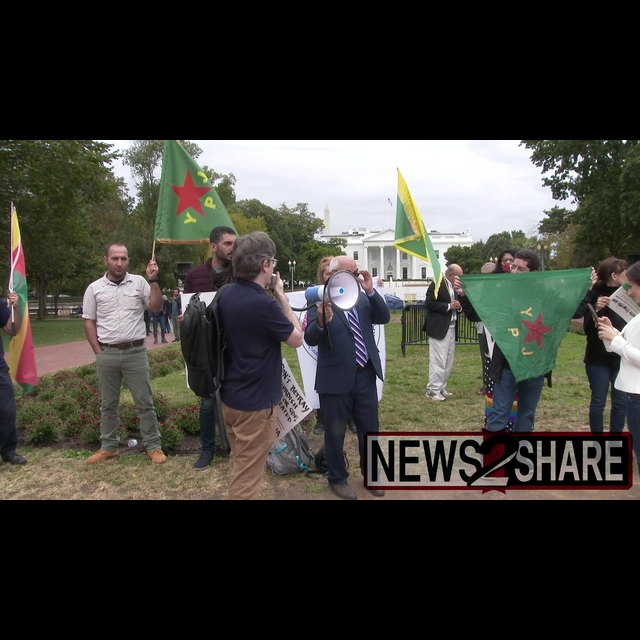YPJ: (154, 139, 223, 227)
